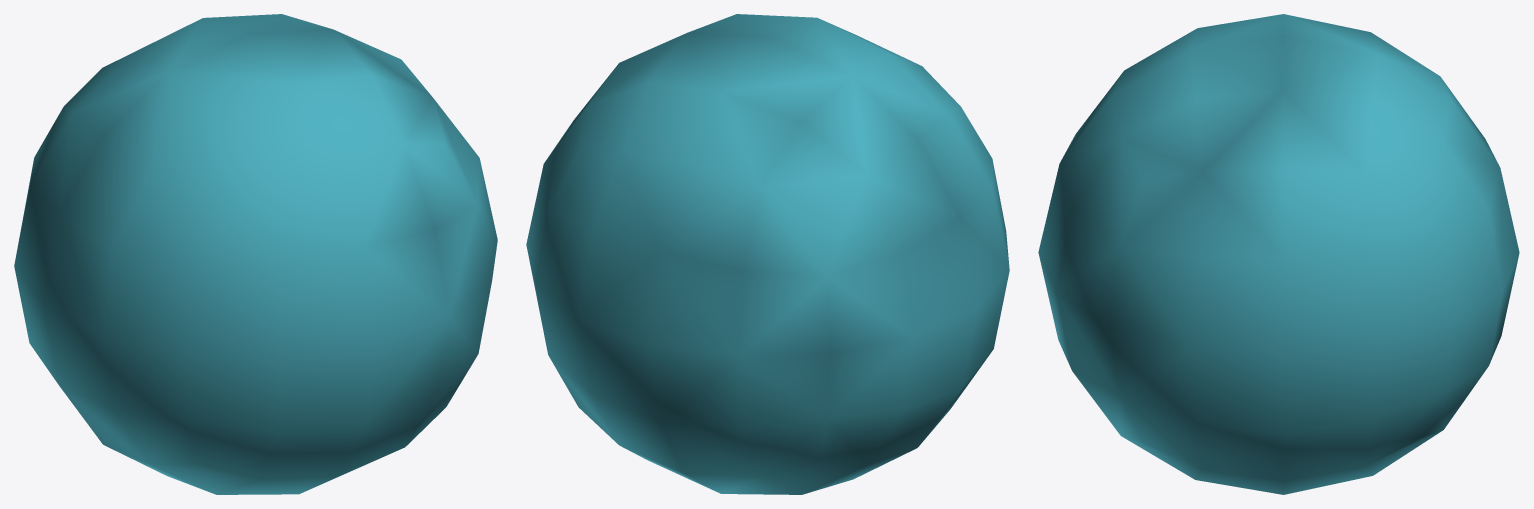
Rendered from space-planets-moons-ice-planet_v1.glb.
3 renders of one model, left to right at view 1: azimuth 30°, elevation 25°; view 2: azimuth 150°, elevation 25°; view 3: azimuth 270°, elevation 25°, orthographic.
Parts seen in each view (by area): view 1: Ice Planet; view 2: Ice Planet; view 3: Ice Planet.
Boxes of the visible parts, bbox=[...] form: Ice Planet: bbox=[14, 14, 497, 494]; Ice Planet: bbox=[526, 14, 1009, 494]; Ice Planet: bbox=[1038, 14, 1519, 494].
Size of the model in its own units: 0.4999 by 0.5 by 0.4999.
